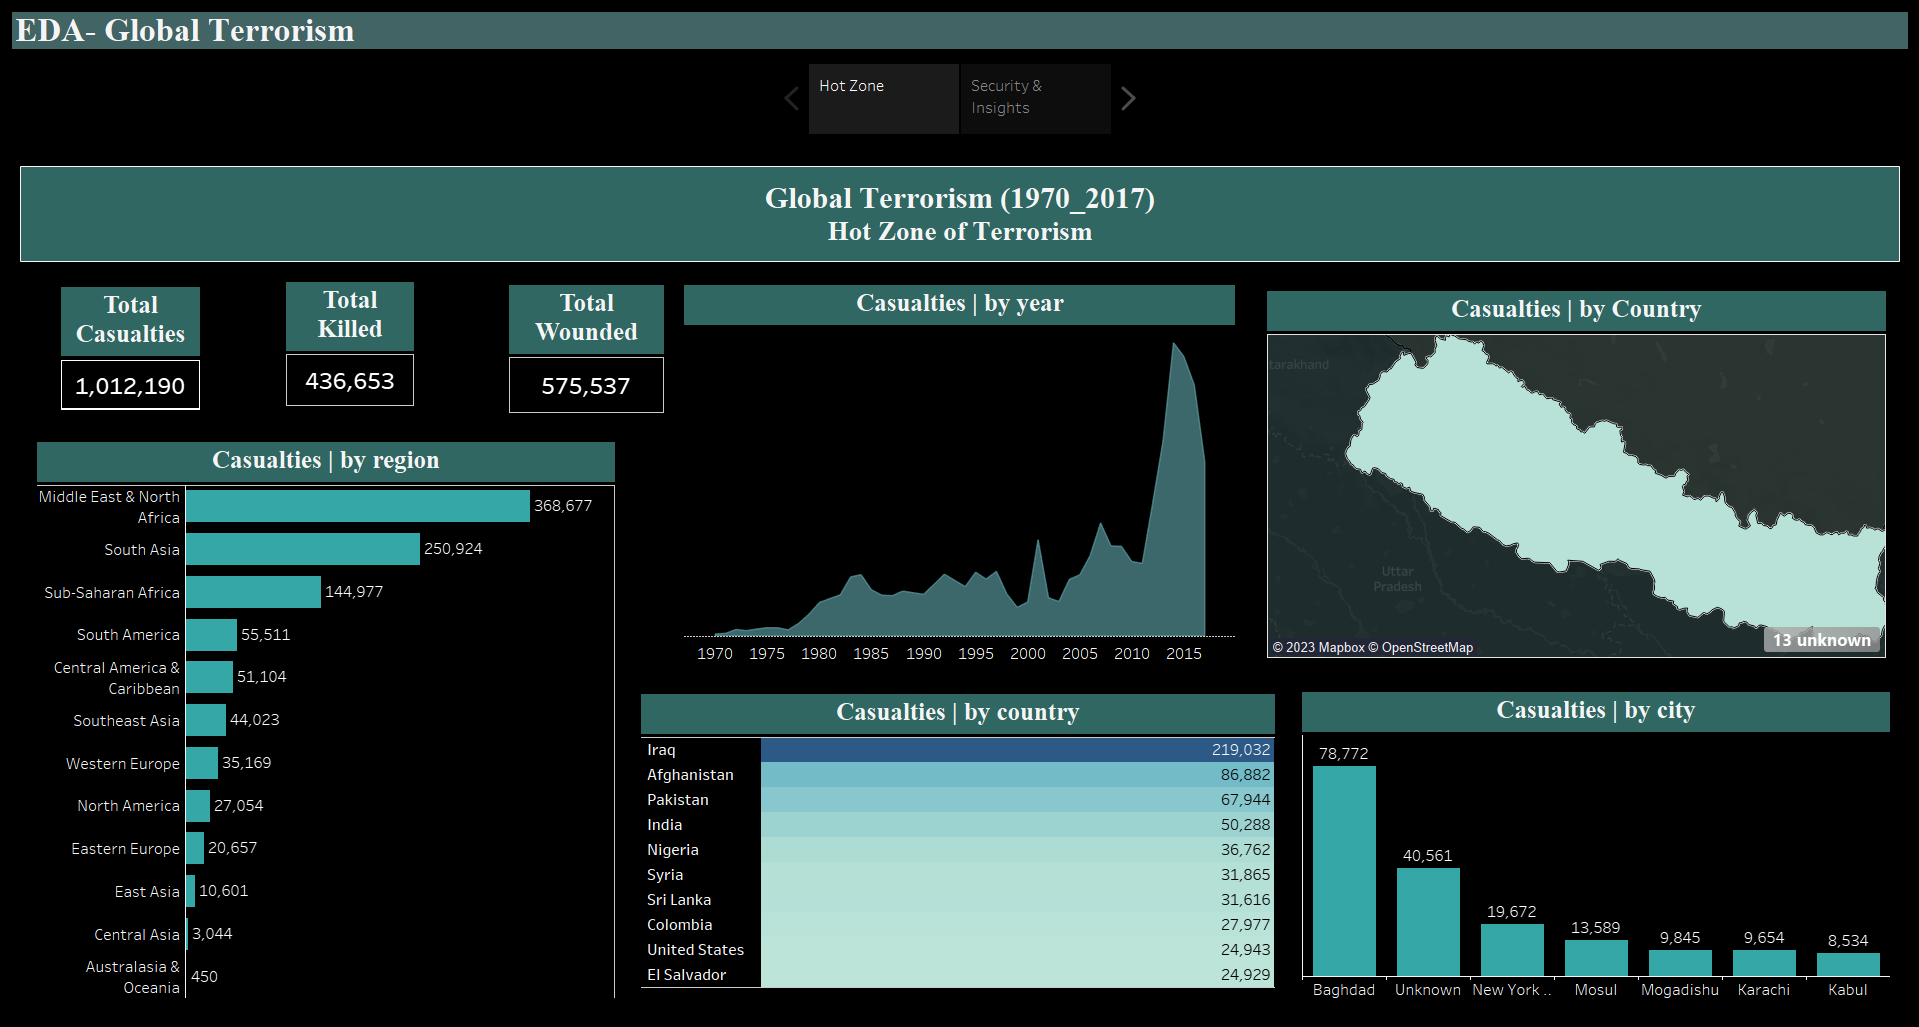

The dashboard page shown, as its layout file describes it:
{"tool":"tableau","page":{"name":"Global Terrorism - Hot Zone","canvas":[1000,1000],"units":"permille","ordinal":0},"visuals":[{"type":"title","box":[4.2,7.7,991.7,99.7]},{"type":"worksheet","title":"Sheet 5 (2)","mark":"Automatic","box":[146.1,145.2,67,140.5]},{"type":"worksheet","title":"Sheet 5 (3)","mark":"Automatic","box":[263.1,148.7,81.5,145.2]},{"type":"worksheet","title":"Sheet 1","mark":"Automatic","rows":["Casualties"],"cols":["Year"],"box":[354.9,148.7,289.7,432.1]},{"type":"worksheet","title":"Sheet 5","mark":"Automatic","box":[27.2,151,73.6,139.4]},{"type":"worksheet","title":"Sheet 2","mark":"Multipolygon","box":[661.4,155.6,325.3,417]},{"type":"worksheet","title":"Sheet 3","mark":"Automatic","rows":["Region"],"cols":["Casualties"],"box":[15.1,326.4,303.6,631.8]},{"type":"worksheet","title":"Sheet 4","mark":"Automatic","rows":["Casualties"],"cols":["city"],"box":[679.5,610.9,309,368.2]},{"type":"worksheet","title":"Sheet 3 (2)","mark":"Square","rows":["Country"],"box":[332.5,613.2,333.1,333.3]}]}

Visuals, with their boxes on the dashboard's canvas, which has no fixed pixel size, in thousandths of its width and height (x1, y1, x2, y2). These are canvas units, not pixel positions in the 1919x1027 screenshot, which may show the page scaled, cropped or inside an application window:
title: (x1=4, y1=8, x2=996, y2=107)
"Sheet 5 (2)" worksheet: (x1=146, y1=145, x2=213, y2=286)
"Sheet 5 (3)" worksheet: (x1=263, y1=149, x2=345, y2=294)
"Sheet 1" worksheet: (x1=355, y1=149, x2=645, y2=581)
"Sheet 5" worksheet: (x1=27, y1=151, x2=101, y2=290)
"Sheet 2" worksheet (Multipolygon marks): (x1=661, y1=156, x2=987, y2=573)
"Sheet 3" worksheet: (x1=15, y1=326, x2=319, y2=958)
"Sheet 4" worksheet: (x1=680, y1=611, x2=988, y2=979)
"Sheet 3 (2)" worksheet (Square marks): (x1=332, y1=613, x2=666, y2=946)
